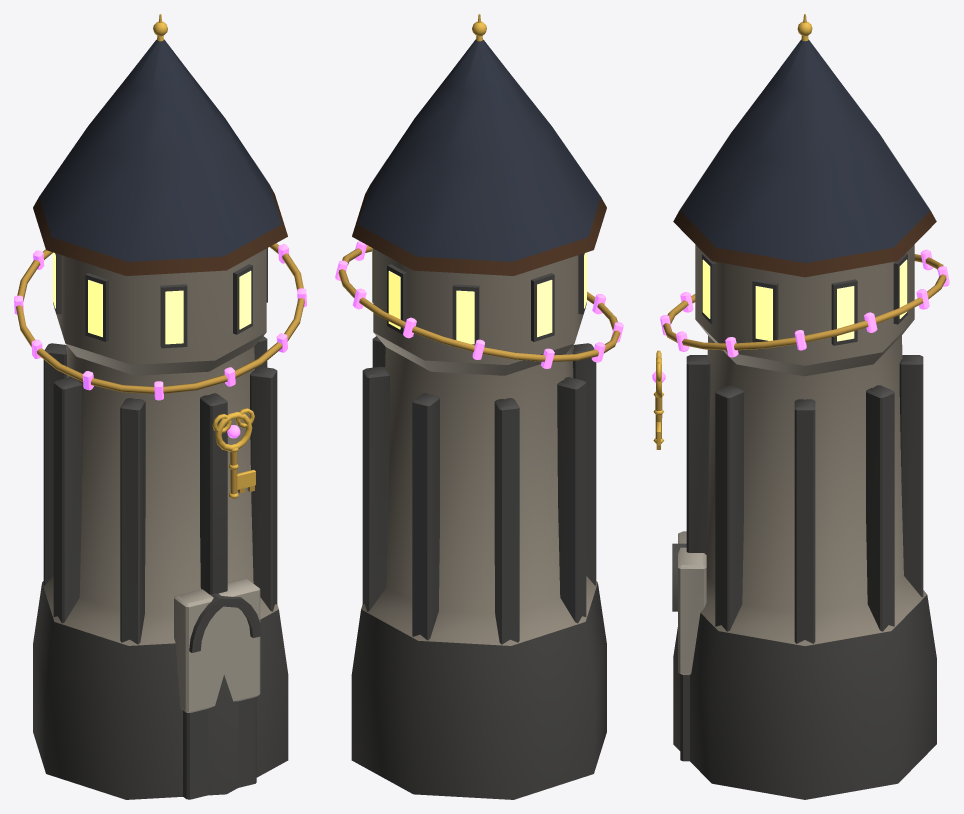
Rendered from lmf_arcanum_tower.glb.
3 views of the same model, side by side, from view 1: azimuth 30°, elevation 25°; view 2: azimuth 150°, elevation 25°; view 3: azimuth 270°, elevation 25° (orthographic).
Parts seen in each view (by area): view 1: body, arcanum_key; view 2: body; view 3: body, arcanum_key.
Boxes of the visible parts, <box> form: body: <box>14,14,306,799</box>; arcanum_key: <box>212,408,255,498</box>; body: <box>335,14,623,799</box>; body: <box>660,14,949,799</box>; arcanum_key: <box>652,350,665,449</box>.
Bounding box in the file's own units: 9.15 × 25.35 × 9.37.
